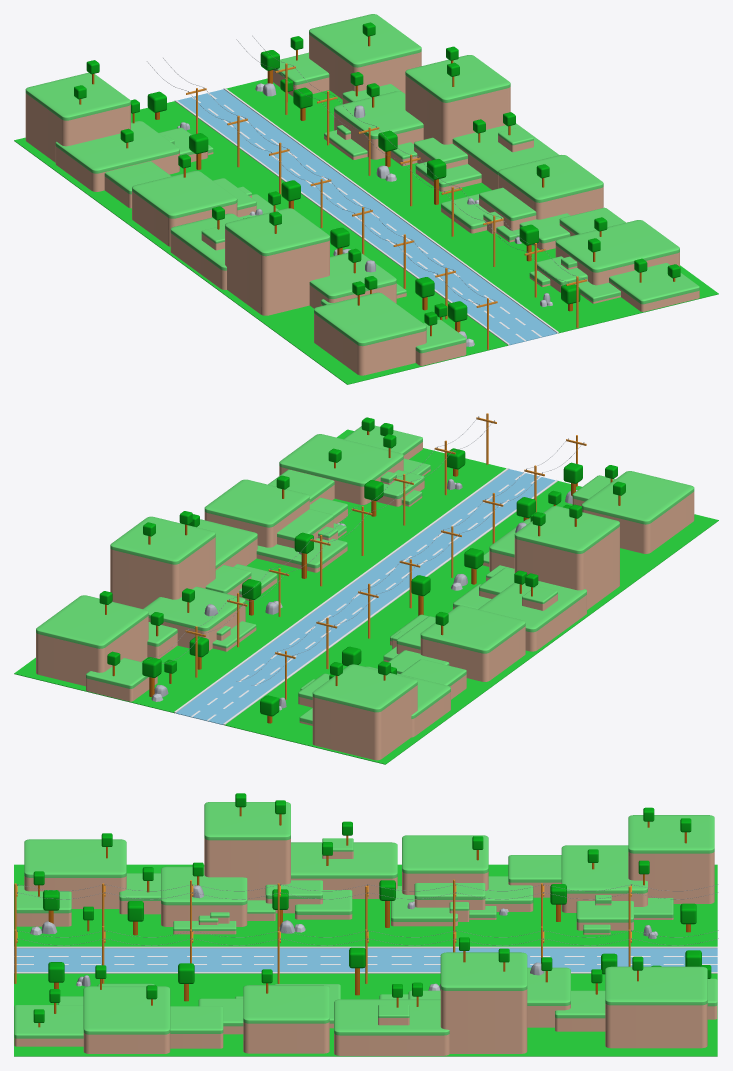
File: stage_1.fbx
3 views of the same model, one above another, from view 1: azimuth 30°, elevation 25°; view 2: azimuth 150°, elevation 25°; view 3: azimuth 270°, elevation 25° (orthographic). The views are drawn at different scales.
Parts seen in each view (by area): view 1: mount_1, mount_2, road1, road, tree_1, tree_2, electric_1, electric_2, rock_1; view 2: mount_1, mount_2, road1, road, tree_1, tree_2, electric_1, electric_2, rock_1; view 3: mount_2, mount_1, road1, road, tree_2, tree_1, electric_2, electric_1, rock_2.
Part boxes in pixels (x1=…): mount_1: x1=273, y1=14, x2=699, y2=311; mount_2: x1=25, y1=72, x2=466, y2=375; road1: x1=14, y1=78, x2=718, y2=384; road: x1=174, y1=88, x2=558, y2=345; tree_1: x1=260, y1=22, x2=680, y2=311; tree_2: x1=74, y1=60, x2=467, y2=336; electric_1: x1=236, y1=35, x2=586, y2=327; electric_2: x1=147, y1=58, x2=497, y2=349; rock_1: x1=255, y1=83, x2=552, y2=306; mount_1: x1=36, y1=425, x2=430, y2=701; mount_2: x1=298, y1=471, x2=694, y2=760; road1: x1=14, y1=429, x2=718, y2=764; road: x1=174, y1=468, x2=558, y2=725; tree_1: x1=99, y1=417, x2=465, y2=697; tree_2: x1=260, y1=462, x2=625, y2=723; electric_1: x1=147, y1=413, x2=496, y2=677; electric_2: x1=236, y1=435, x2=586, y2=699; rock_1: x1=151, y1=479, x2=462, y2=701; mount_2: x1=16, y1=802, x2=714, y2=934; mount_1: x1=14, y1=952, x2=717, y2=1055; road1: x1=14, y1=864, x2=717, y2=1056; road: x1=14, y1=946, x2=717, y2=973; tree_2: x1=33, y1=793, x2=696, y2=935; tree_1: x1=33, y1=937, x2=711, y2=1027; electric_2: x1=14, y1=879, x2=718, y2=932; electric_1: x1=14, y1=926, x2=718, y2=983; rock_2: x1=30, y1=885, x2=658, y2=938.
Size of the model in its own units: 151 by 33.68 by 235.
